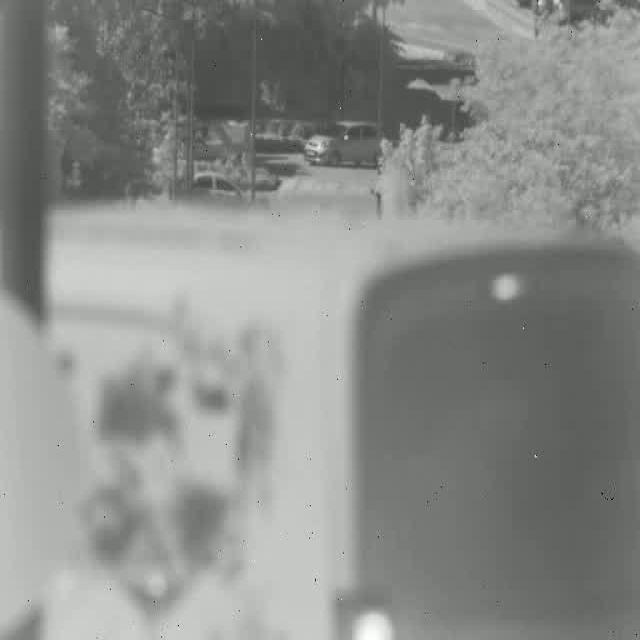Car: (43, 199, 640, 640), (303, 120, 391, 166), (172, 174, 246, 200)
